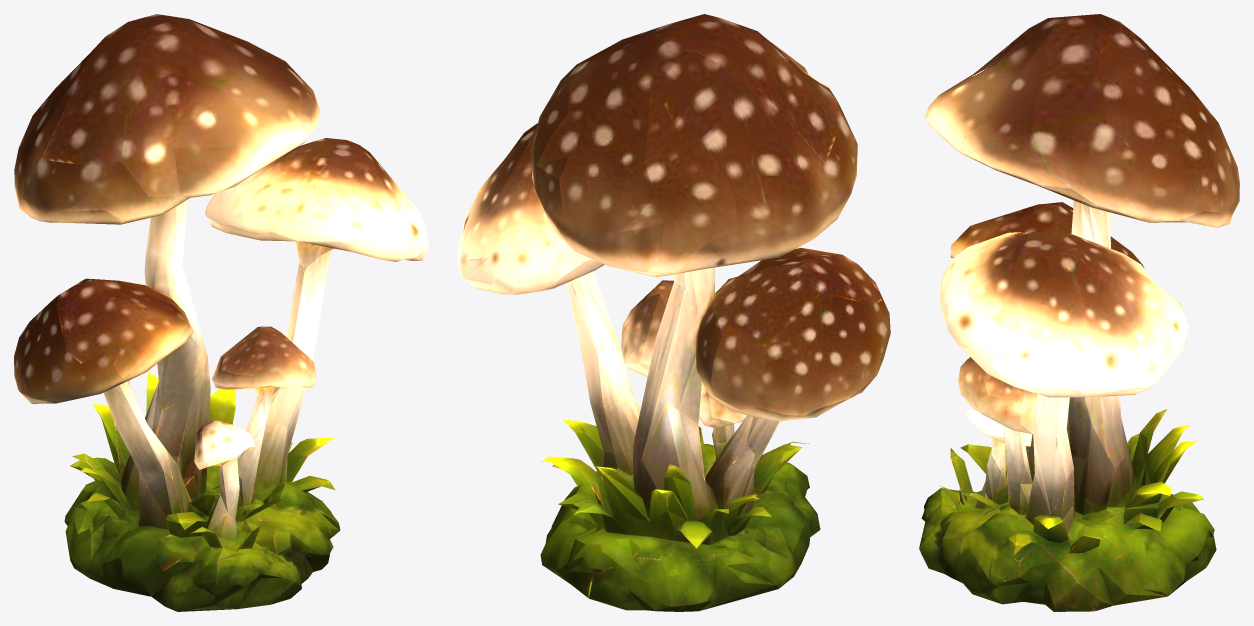
The model's file is VEG-007.glb.
3 renders of one model, left to right at view 1: azimuth 30°, elevation 25°; view 2: azimuth 150°, elevation 25°; view 3: azimuth 270°, elevation 25°, orthographic. The views are drawn at different scales.
Parts seen in each view (by area): view 1: VEG-007_LOD0; view 2: VEG-007_LOD0; view 3: VEG-007_LOD0.
Boxes of the visible parts, box(x1,y1,x2,y2) form: VEG-007_LOD0: box(14, 14, 428, 611); VEG-007_LOD0: box(457, 14, 890, 611); VEG-007_LOD0: box(919, 14, 1239, 611).
Size of what is drawn, in the model's own units: 0.4184 by 0.55 by 0.3061.
1 material, 1 textured.
